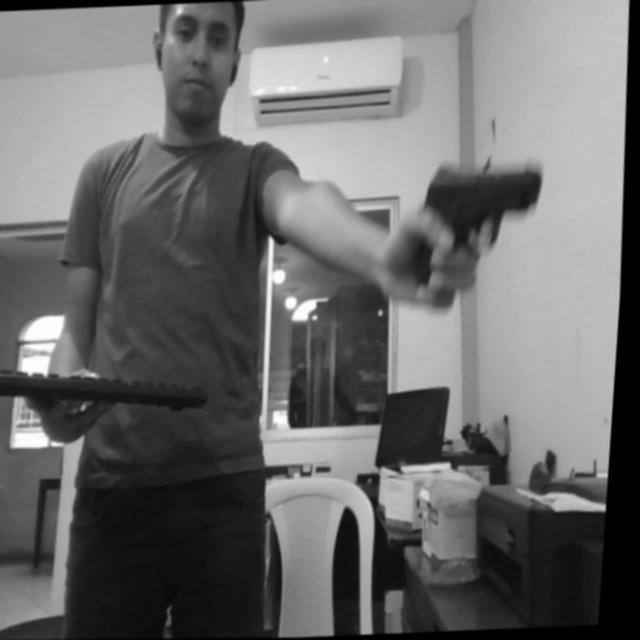weapon: (404, 159, 552, 294)
